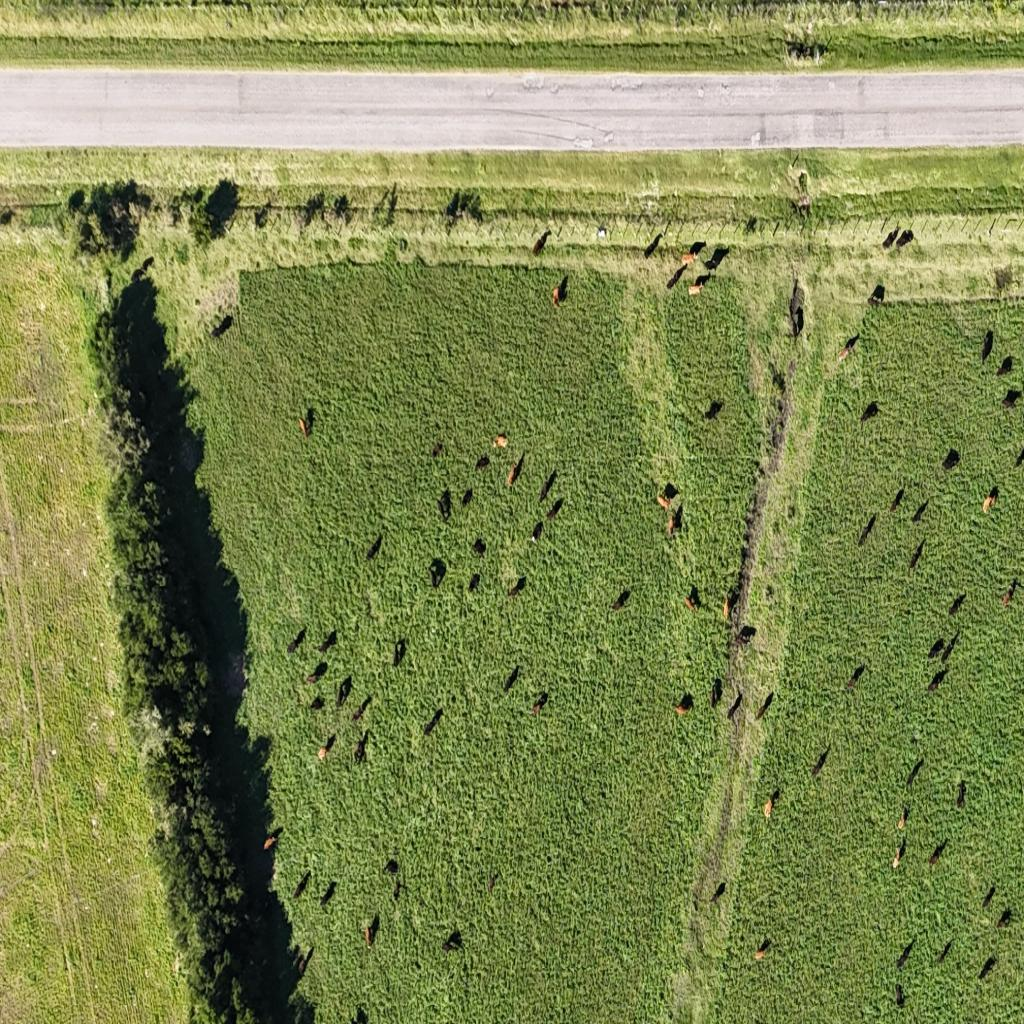cow: (443, 190, 477, 230), (788, 282, 804, 341), (726, 592, 752, 628), (302, 192, 324, 228), (77, 223, 100, 257), (704, 245, 730, 273), (764, 782, 782, 820), (811, 744, 829, 780), (897, 936, 916, 970), (942, 629, 960, 663), (905, 756, 924, 788), (845, 663, 866, 691), (838, 334, 859, 362), (292, 871, 311, 901), (928, 838, 947, 868), (67, 188, 86, 218), (538, 470, 555, 503), (423, 708, 443, 736), (773, 402, 787, 442), (858, 516, 876, 547), (982, 486, 1001, 515), (132, 258, 154, 283), (211, 314, 232, 340), (926, 667, 947, 693), (909, 537, 925, 571), (644, 232, 664, 259), (364, 912, 379, 948), (336, 675, 352, 708), (429, 558, 446, 589), (530, 230, 550, 256), (667, 264, 687, 290), (298, 945, 314, 977), (508, 454, 524, 486), (727, 692, 743, 723), (941, 448, 960, 474), (674, 694, 695, 717), (442, 930, 462, 954), (611, 586, 631, 610), (756, 691, 772, 721), (550, 280, 566, 310), (660, 484, 680, 508), (937, 937, 954, 965), (888, 486, 905, 514), (981, 329, 994, 365), (351, 697, 369, 723), (288, 627, 306, 653), (927, 638, 945, 663), (366, 533, 382, 561), (354, 732, 368, 764), (686, 586, 702, 614), (1001, 581, 1018, 607), (979, 955, 996, 981), (333, 195, 350, 221), (255, 203, 272, 229), (859, 402, 879, 424), (265, 826, 283, 850), (503, 666, 519, 693), (948, 592, 966, 616), (545, 497, 562, 522), (911, 499, 928, 524), (704, 400, 724, 421), (1001, 389, 1022, 409), (735, 626, 756, 646), (996, 355, 1014, 378), (868, 283, 886, 306), (319, 881, 335, 906), (895, 228, 914, 249), (508, 576, 526, 598), (996, 908, 1014, 930), (318, 631, 336, 653), (668, 510, 682, 538), (882, 227, 899, 250), (531, 693, 548, 716), (439, 490, 452, 520), (710, 678, 722, 710), (754, 937, 770, 960), (982, 884, 996, 910), (305, 668, 326, 685), (530, 521, 543, 547), (393, 639, 405, 667), (712, 881, 726, 905), (956, 780, 967, 810), (688, 276, 706, 294), (772, 369, 786, 391), (688, 241, 706, 258), (446, 195, 459, 218), (382, 858, 398, 876), (722, 594, 733, 620), (472, 536, 486, 556), (0, 206, 14, 226), (307, 695, 324, 711), (475, 454, 490, 472), (745, 215, 758, 235), (462, 487, 474, 508), (354, 1006, 368, 1024), (895, 982, 905, 1007), (468, 573, 481, 592), (493, 434, 508, 450), (432, 440, 444, 460), (298, 416, 308, 440), (392, 876, 402, 900), (893, 846, 903, 870), (305, 406, 315, 429), (764, 798, 774, 820), (896, 810, 906, 832), (757, 466, 768, 485), (692, 892, 701, 915), (317, 745, 329, 761), (487, 874, 497, 892), (1017, 446, 1024, 468), (845, 678, 856, 692), (365, 597, 373, 614), (765, 584, 774, 598)
